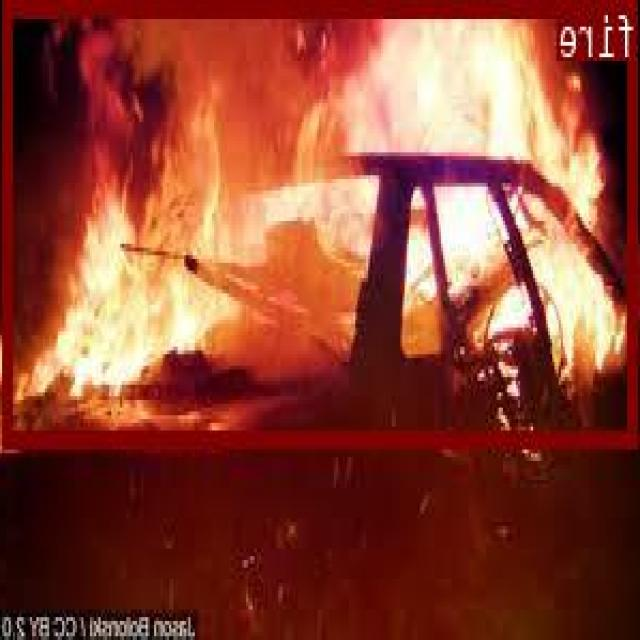fire: (5, 0, 639, 442)
